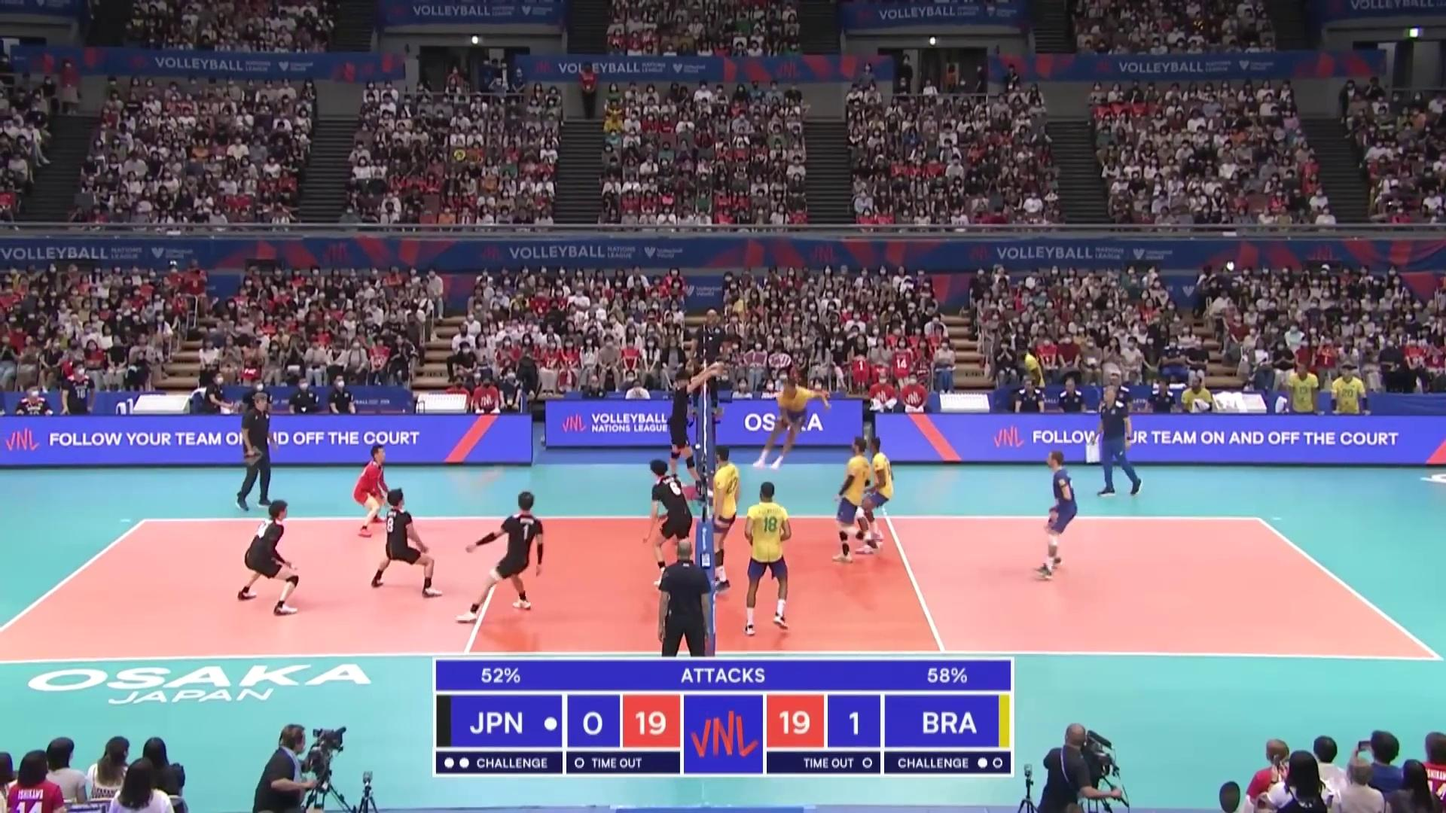player: (461, 493, 546, 620), (370, 487, 443, 596), (742, 481, 791, 638), (237, 500, 303, 615), (753, 377, 828, 475), (643, 458, 691, 584), (833, 438, 876, 565), (707, 446, 743, 595), (1036, 453, 1078, 580), (669, 370, 712, 494), (856, 435, 894, 551), (352, 446, 393, 537)
refree: (657, 538, 710, 675), (691, 309, 723, 419)
